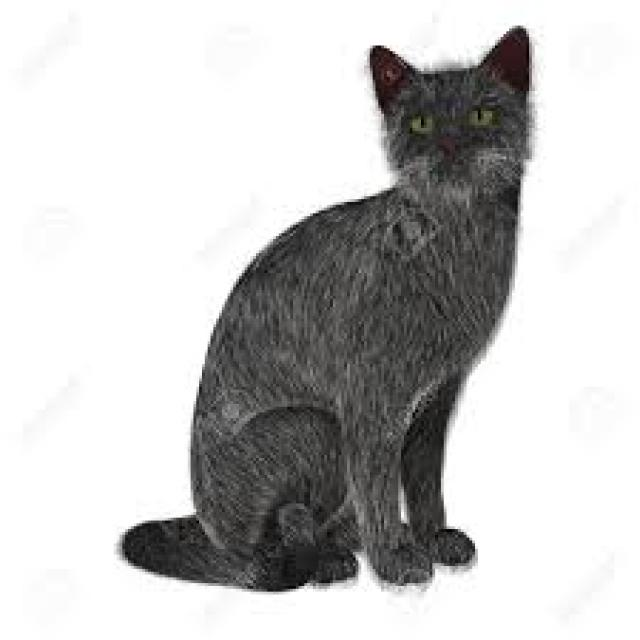cat: (115, 21, 541, 592)
